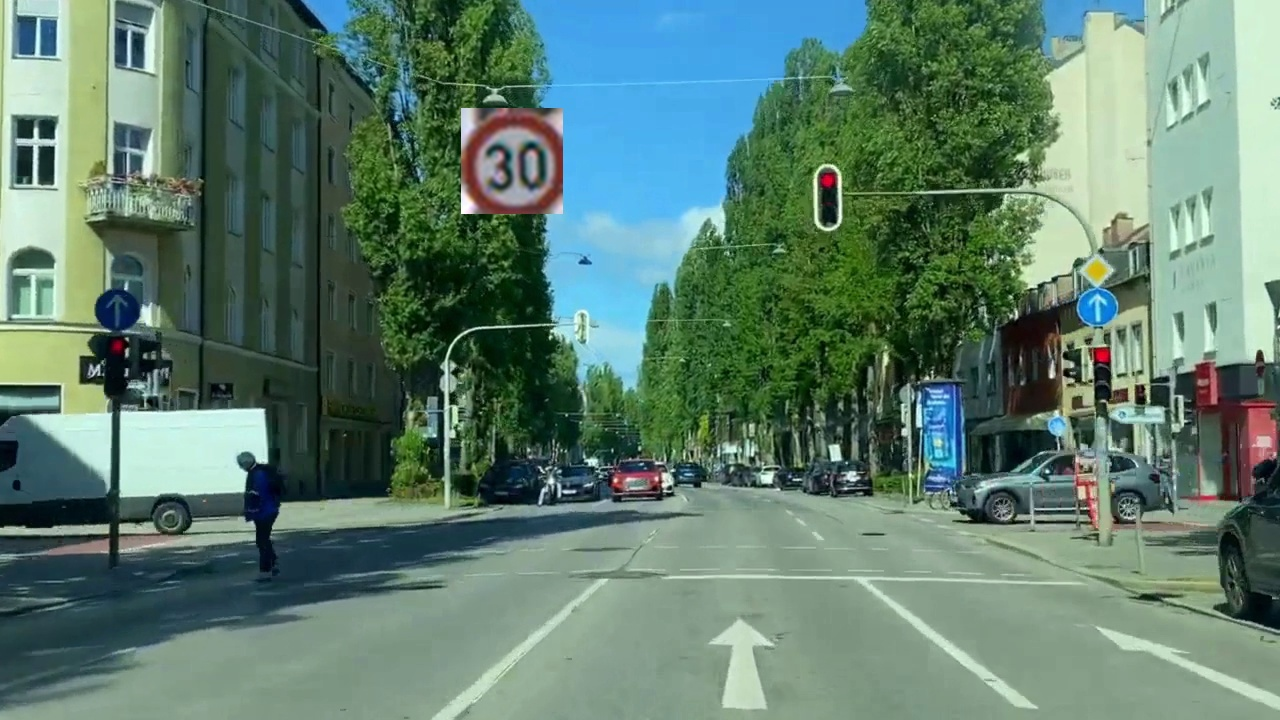Speed 30: (461, 108, 563, 214)
